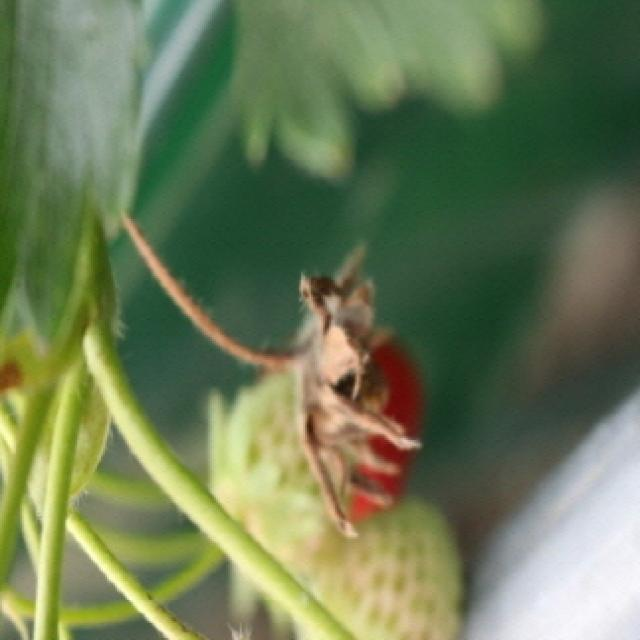Gray Mold: (269, 255, 430, 542)
